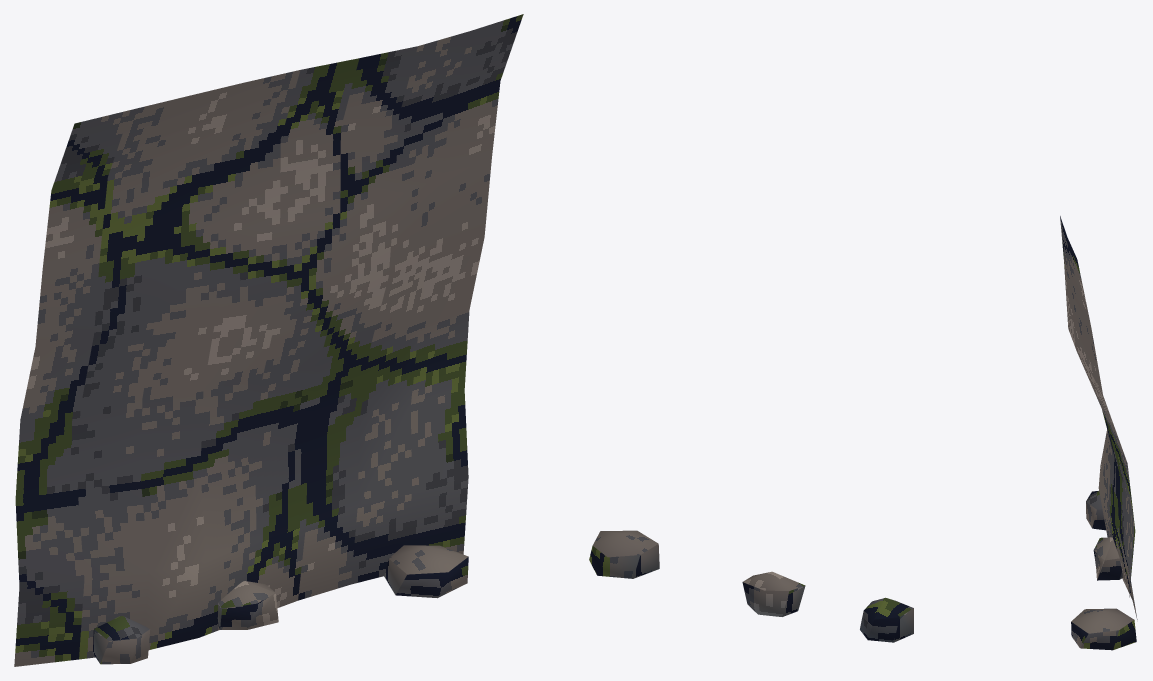
The model's file is cave.wall.glb.
3 renders of one model, left to right at view 1: azimuth 30°, elevation 25°; view 2: azimuth 150°, elevation 25°; view 3: azimuth 270°, elevation 25°, orthographic. The views are drawn at different scales.
Visible parts, largest first — view 1: kit_shell_rock, kit_scree; view 2: kit_scree; view 3: kit_shell_rock, kit_scree.
Boxes of the visible parts, <box> form: kit_shell_rock: <box>14,14,523,666</box>; kit_scree: <box>92,545,468,664</box>; kit_scree: <box>589,530,913,642</box>; kit_shell_rock: <box>1060,216,1137,619</box>; kit_scree: <box>1071,491,1136,650</box>.
Bounding box in the file's own units: 4 × 5 × 1.04.
1 material, 1 textured.
